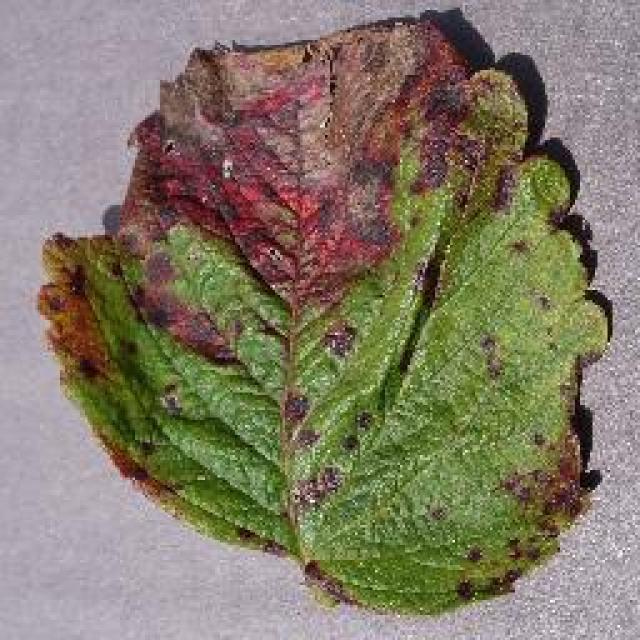Strawberry leaf scorch: (32, 50, 538, 460)
